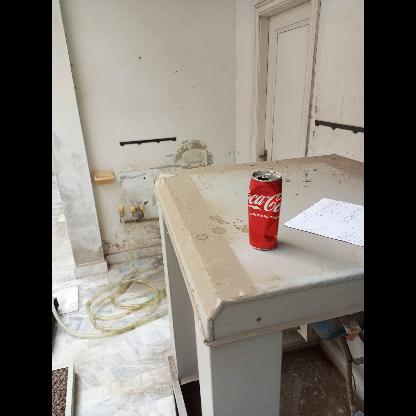Dent_Can: (251, 188, 278, 243)
Lid_Open: (258, 171, 274, 181)
Tin_Can: (247, 171, 283, 253)
